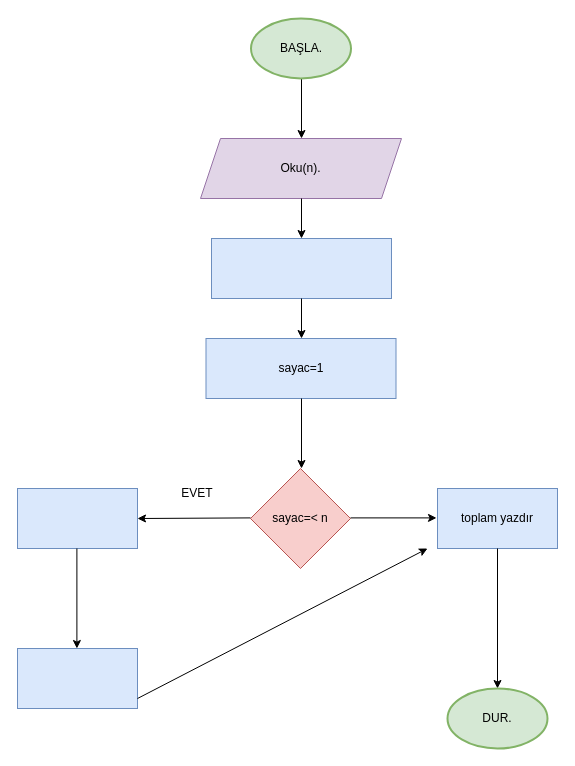
The diagram is 575 pixels wide and 766 high, and some of its shapes have lost their labels. The shapes that lost their labels are listed below. From the top down, each one's centre as x and y in pixels, then its label:
At point 301,268: "toplam=0".
At point 77,518: "toplam=toplam+sayac".
At point 77,678: "sayac=sayac+1".
